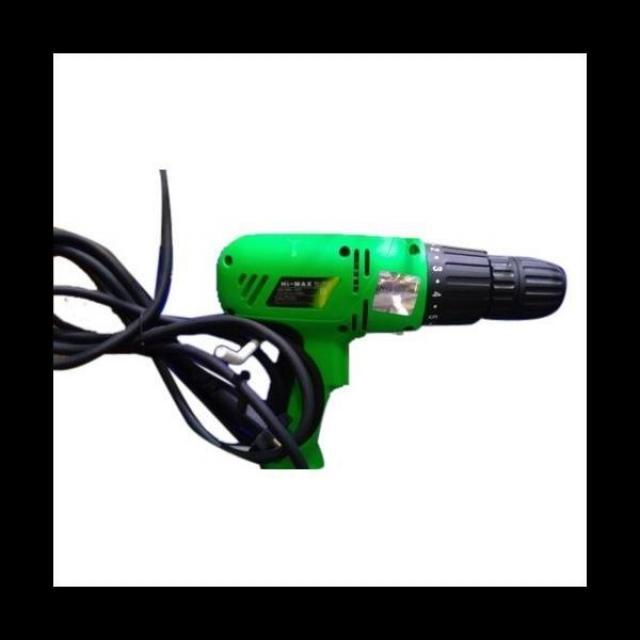drill: (216, 232, 569, 471)
